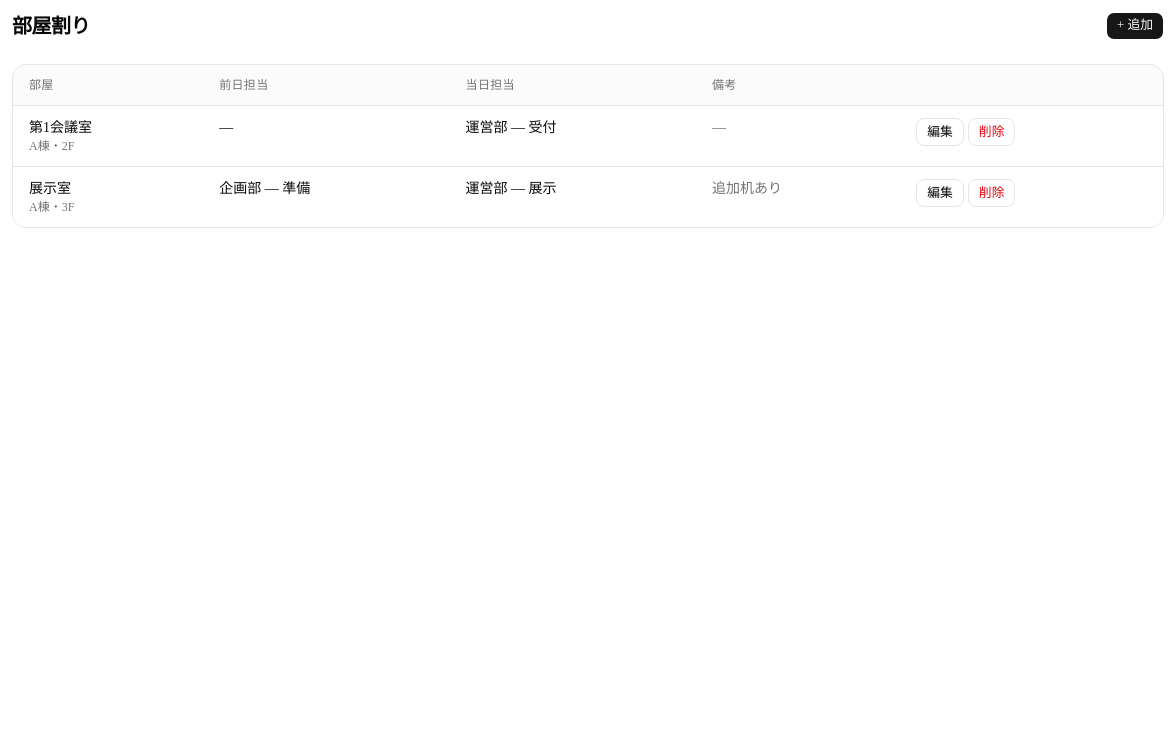
Scenario: RoomAdminPanel › 編集ボタンで既存データがフォームに入力済みになる
Step 1. Click the button "編集" in the row of "第1会議室" → {"x": 940, "y": 132}, box [916,118,964,146]
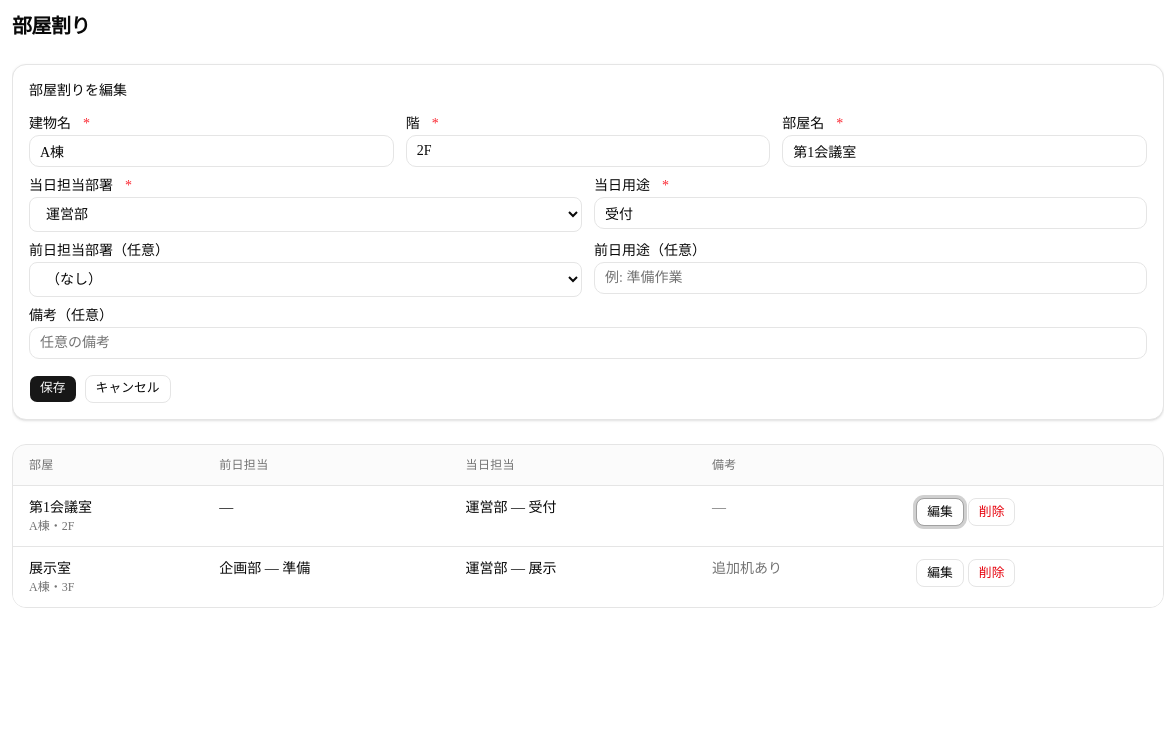
Now the heading "部屋割りを編集" is shown, box [29,83,127,98]
Now the field labelled "建物名 *" holds "A棟", box [29,135,394,167]
Now the field labelled "部屋名 *" holds "第1会議室", box [782,135,1147,167]
